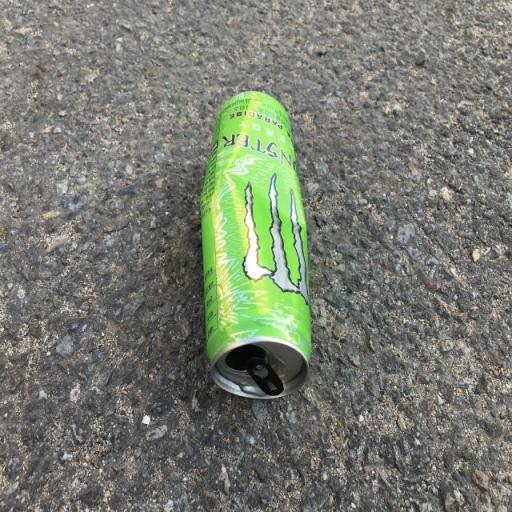metal: (190, 70, 335, 418)
